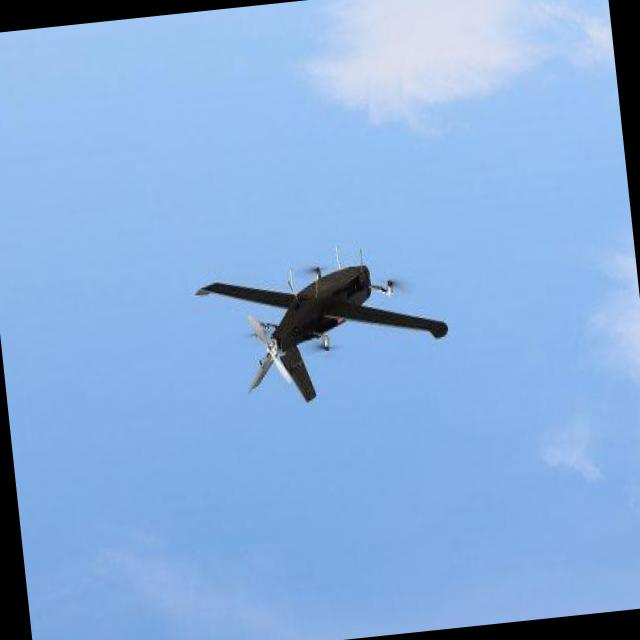UAV: (214, 201, 482, 413)
